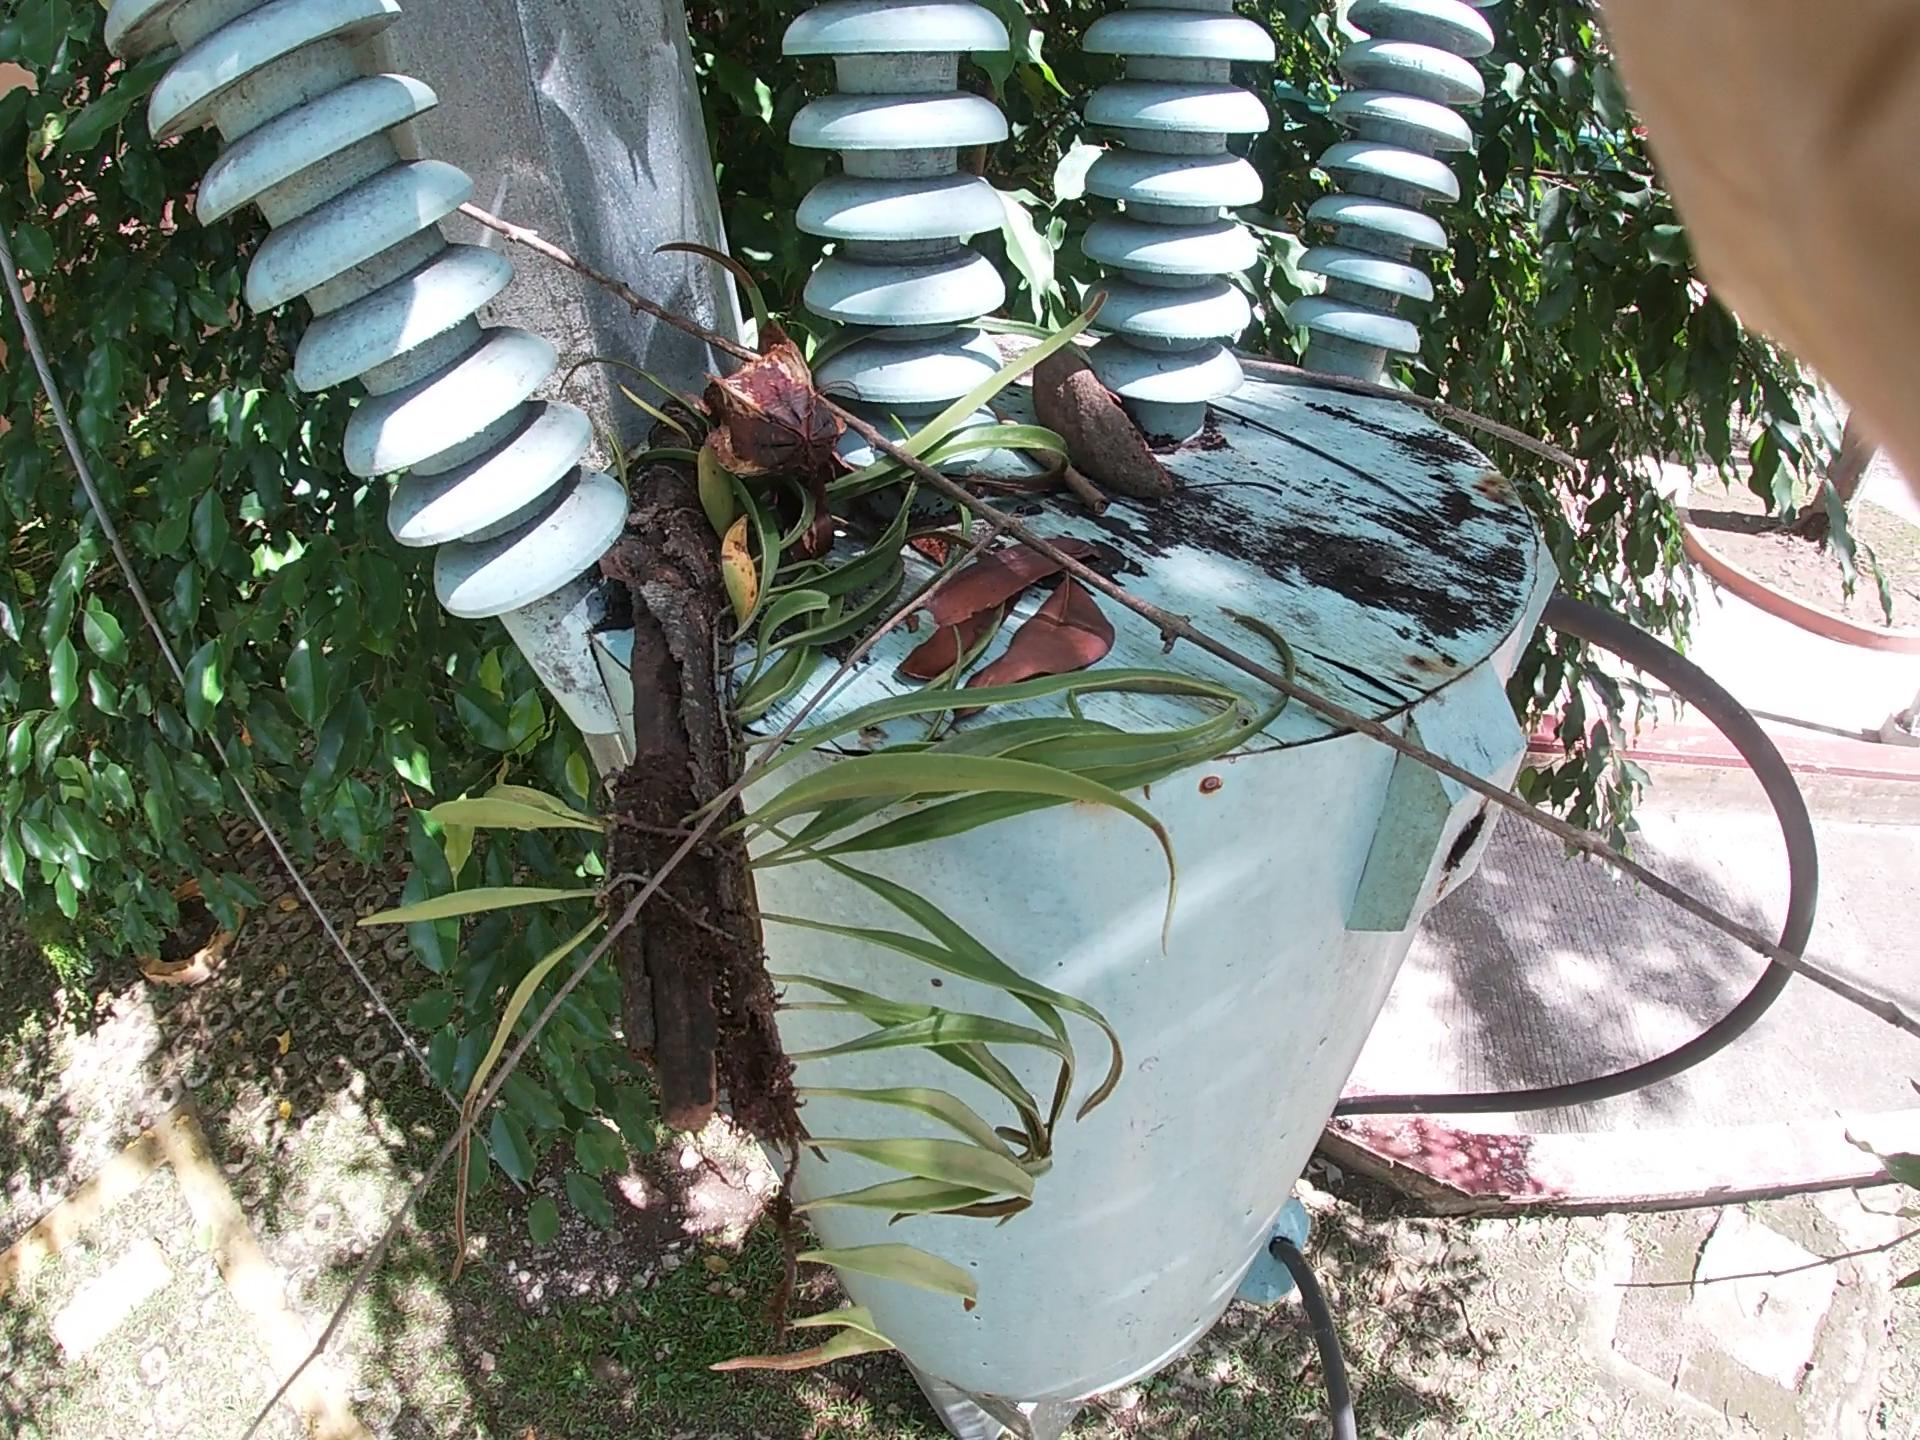branch with leaves: (522, 290, 1150, 1199)
leaf: (977, 560, 1350, 796)
mahogany fruit: (1033, 289, 1212, 551), (701, 321, 900, 531)
tree branch: (1225, 346, 1649, 473), (1030, 349, 1134, 532)
